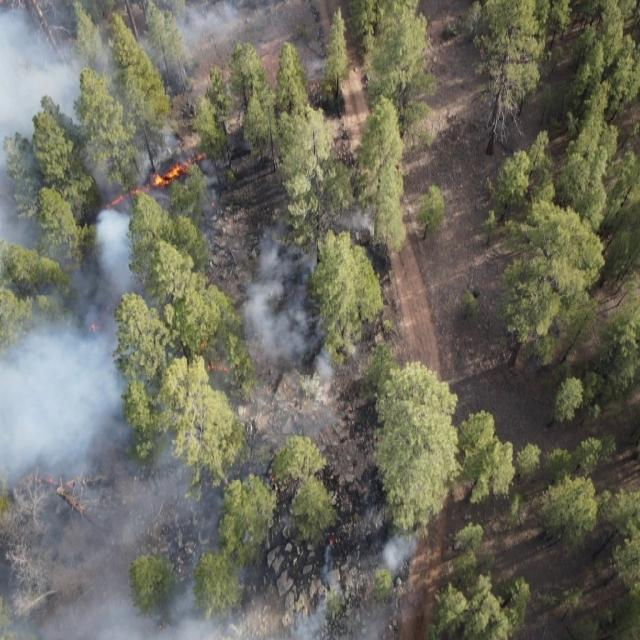fire: (70, 135, 230, 225), (197, 334, 240, 388), (24, 470, 84, 494), (84, 312, 108, 346), (262, 468, 283, 490), (321, 532, 341, 552)
smoke: (0, 241, 326, 640), (1, 2, 260, 240), (326, 500, 424, 640), (258, 0, 333, 81), (334, 191, 392, 244)
